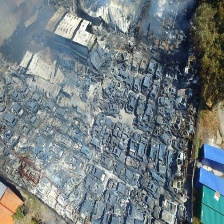smoke: (11, 6, 94, 157)
